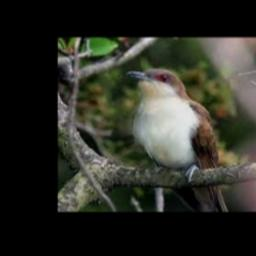Cuckoo: (126, 69, 228, 211)
